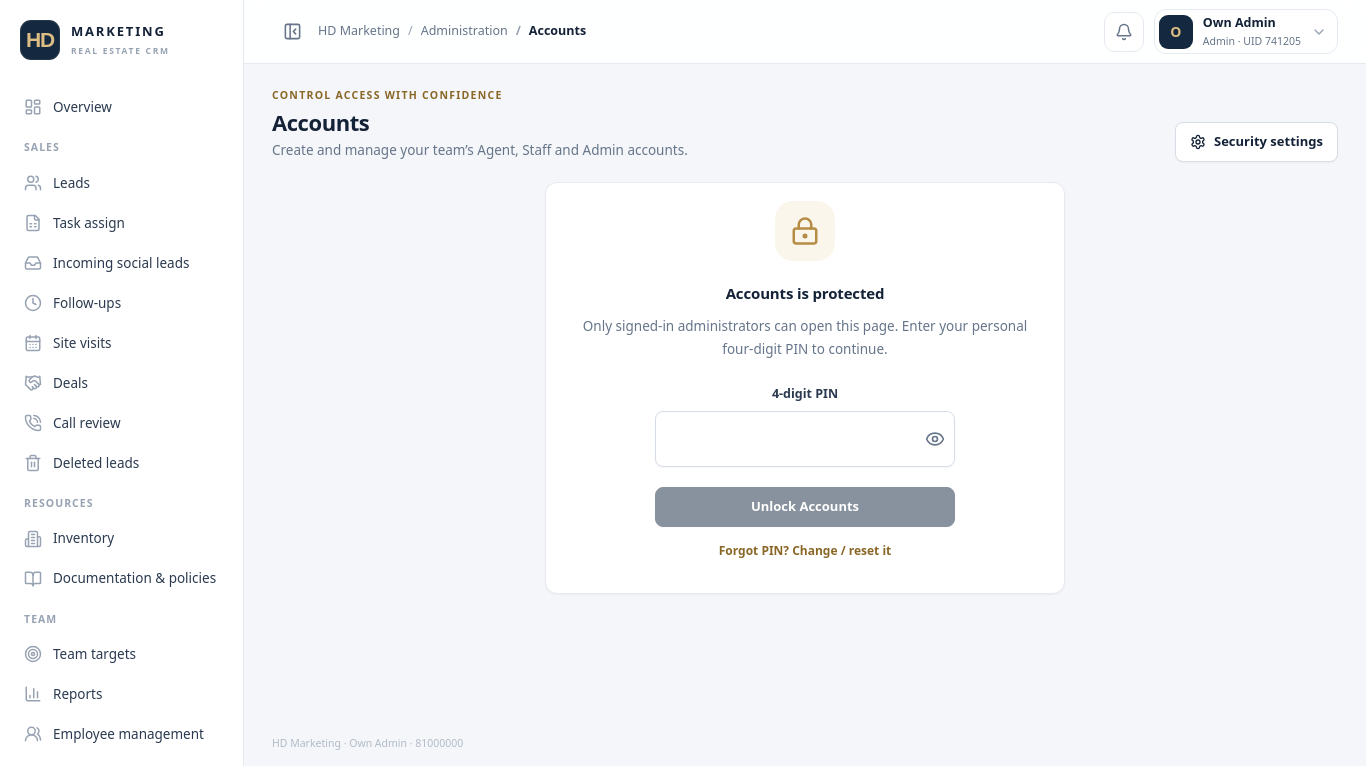
Test: Account email codes in Accounts › directs a partial independent account to resume without exposing alternate activation or password controls
Step 1. Type "0123" into the password field labelled "4-digit PIN" → (805, 439), box x1=655 y1=411 x2=955 y2=467
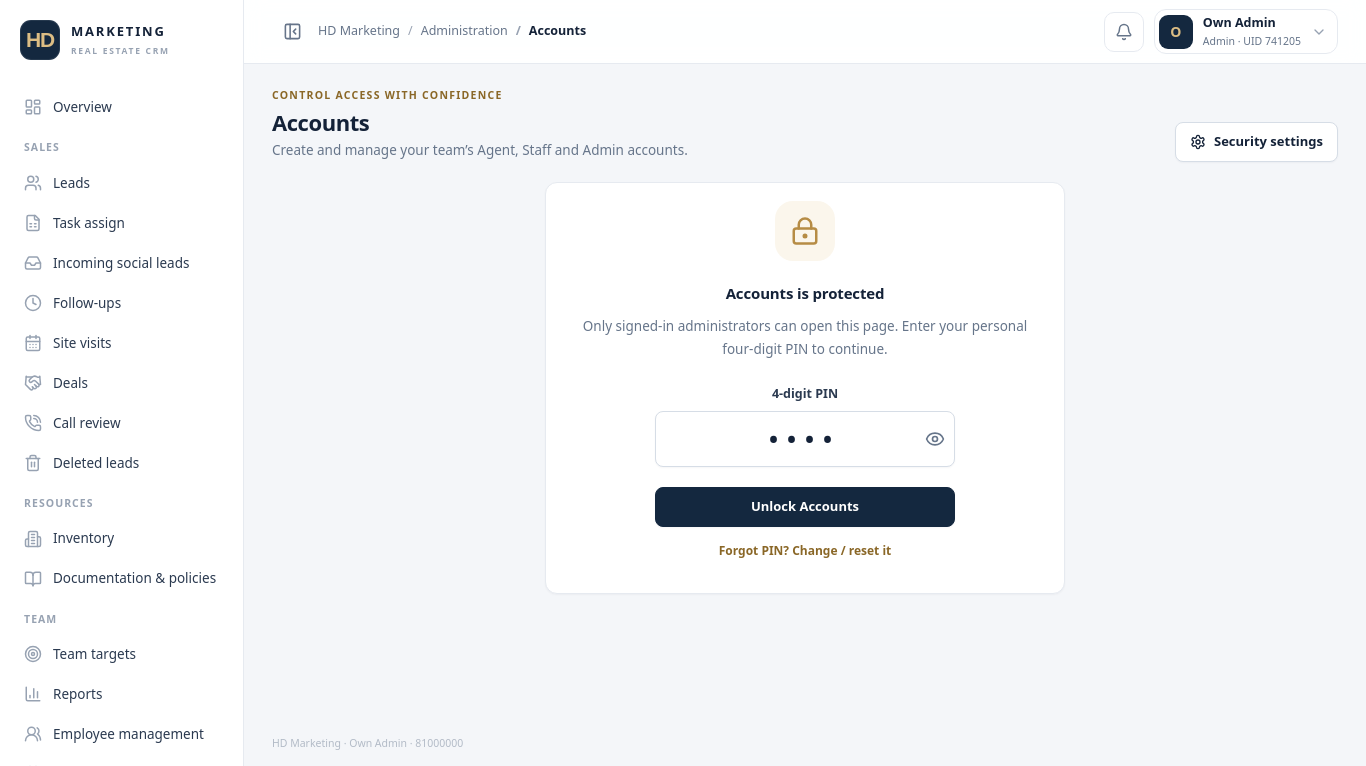
Step 2. Click the button "Unlock Accounts" → (805, 507), box x1=655 y1=487 x2=955 y2=527
(page scrolled)
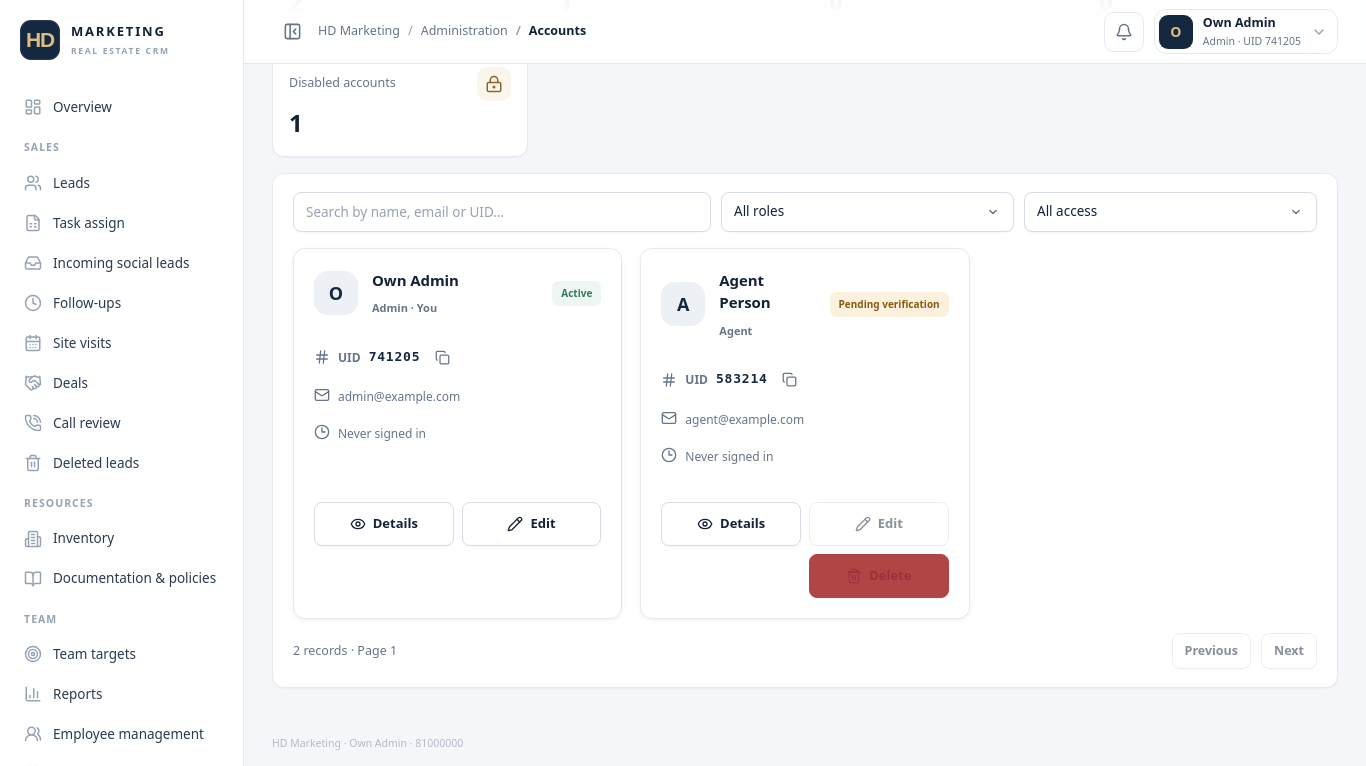
Expected: the button with aria-label "Details for Agent Person" is shown
Expected: the button with aria-label "Edit Agent Person" is disabled, x1=809 y1=502 x2=949 y2=546
Step 3. Click the button with aria-label "Details for Agent Person" → (731, 524), box x1=661 y1=502 x2=801 y2=546
(page scrolled)
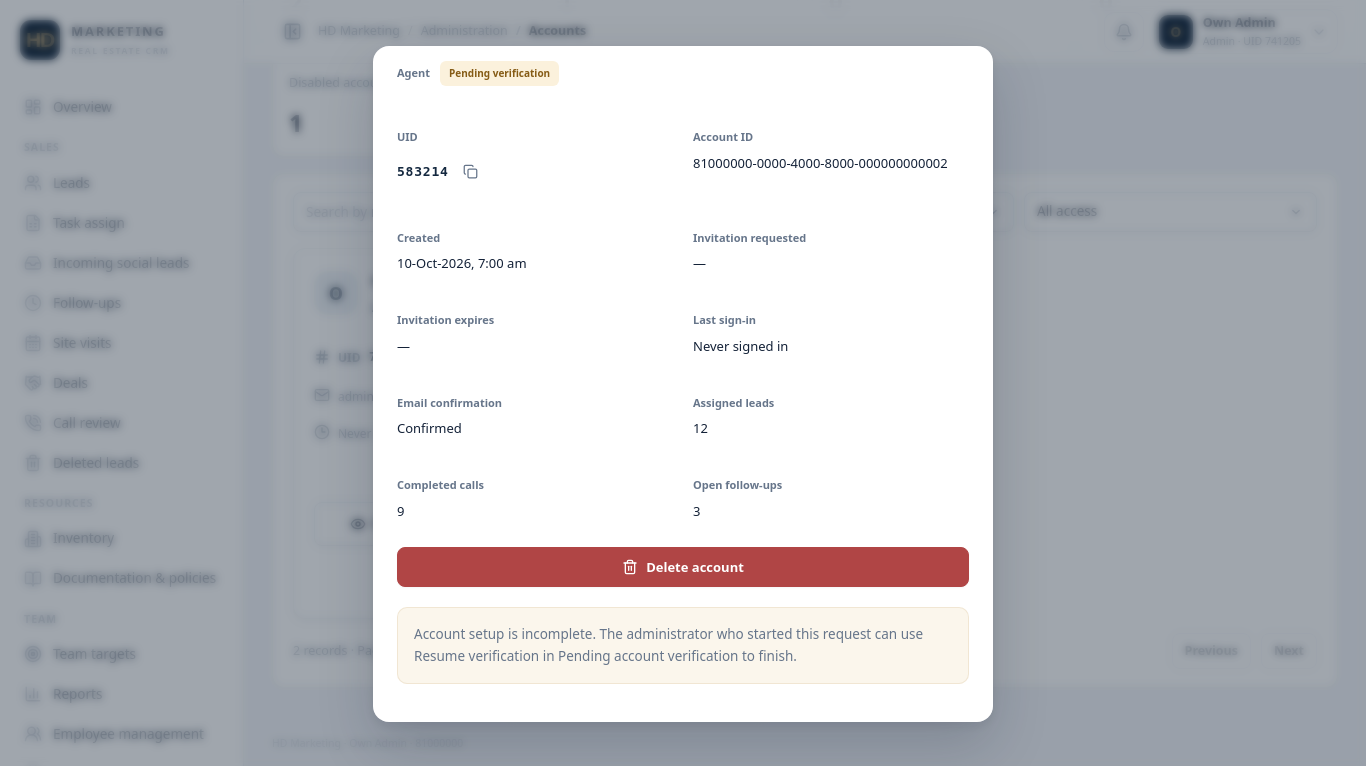
Expected: the text "Account setup is incomplete" is shown, x1=414 y1=625 x2=923 y2=665
